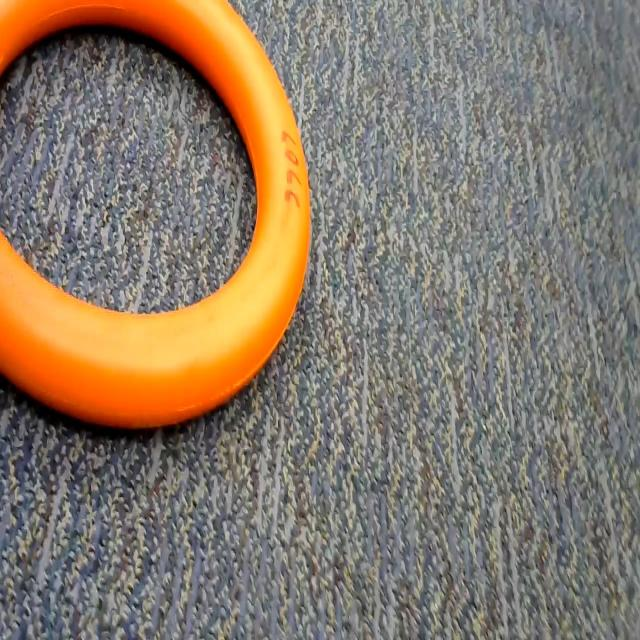note: (1, 0, 317, 435)
